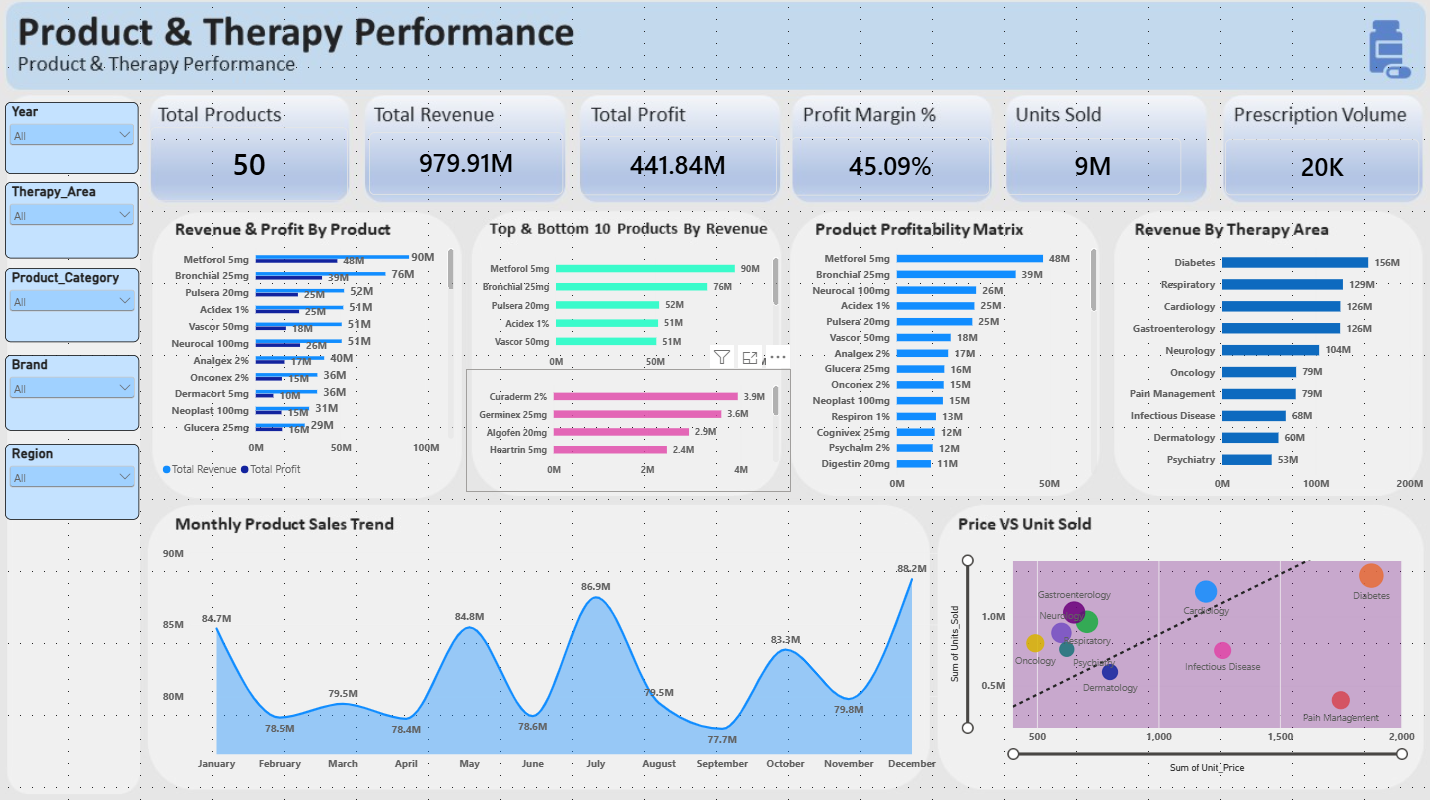

Layout of this report page (visuals, bound fields, positions):
{"tool":"powerbi","page":{"name":"Product & Therapy Performance","canvas":[1920,1080],"ordinal":1},"visuals":[{"type":"card","fields":{"Values":["Products.Total Products"]},"box":[205.3,176,264,98.7],"z":0},{"type":"card","fields":{"Values":["Sales.Total Revenue"]},"box":[496.8,182.9,259,83.8],"z":1000},{"type":"card","fields":{"Values":["Sales.Total Profit"]},"box":[777.1,187.4,263.6,79.2],"z":2000},{"type":"card","fields":{"Values":["Sales.Profit Margin %"]},"box":[1060.6,189,265.1,77.7],"z":3000},{"type":"card","fields":{"Values":["Sales.Total Unit Sold"]},"box":[1345.5,190.5,234.7,76.2],"z":4000},{"type":"card","fields":{"Values":["Prescriptions.Prescription Volume"]},"box":[1638.1,192,259,74.7],"z":5000},{"type":"clusteredBarChart","fields":{"Category":["Products.Product_Name"],"Y":["Sales.Total Revenue","Sales.Total Profit"]},"box":[205.3,316,421.3,346.7],"z":6000},{"type":"clusteredBarChart","fields":{"Category":["Products.Product_Name"],"Y":["Sales.Total Revenue"]},"box":[626.7,328,433.3,190.7],"z":7000},{"type":"clusteredBarChart","fields":{"Category":["Products.Product_Name"],"Y":["Sales.Total Revenue"]},"box":[626.7,498.7,433.3,164],"z":8000},{"type":"clusteredBarChart","fields":{"Category":["Products.Product_Name"],"Y":["Sales.Total Profit"]},"box":[1060,316,424,364],"z":9000},{"type":"clusteredBarChart","fields":{"Category":["Products.Therapy_Area"],"Y":["Sales.Total Revenue"]},"box":[1494,316,424,364],"z":10000},{"type":"areaChart","fields":{"Category":["Date.Date.Variation.Date Hierarchy.Month"],"Y":["Sales.Total Revenue"]},"box":[205.3,720,1066.7,333.3],"z":11000},{"type":"scatterChart","fields":{"X":["Sum(Products.Unit_Price)"],"Y":["Sum(Sales.Units_Sold)"],"Series":["Products.Therapy_Area"],"Size":["Sales.Total Revenue"]},"box":[1254.7,732,653.3,321.3],"z":12000},{"type":"slicer","fields":{"Values":["Date.Date.Variation.Date Hierarchy.Year"]},"box":[12.2,143.2,178.3,96],"z":13000},{"type":"slicer","fields":{"Values":["Products.Therapy_Area"]},"box":[12,264,178.3,102.1],"z":14000},{"type":"slicer","fields":{"Values":["Products.Product_Category"]},"box":[12,390.7,178.7,98.7],"z":15000},{"type":"slicer","fields":{"Values":["Products.Brand"]},"box":[12,518.7,178.7,101.3],"z":16000},{"type":"slicer","fields":{"Values":["Distributors.Region"]},"box":[12,656,178.7,101.3],"z":17000}]}

Visuals, with their boxes in screenshot pixels (x1, y1, x2, y2), scaled from the page's 1920x1080 canvas onto the 1430x800 screenshot:
card - Products.Total Products: rect(153, 130, 350, 203)
card - Sales.Total Revenue: rect(370, 135, 563, 198)
card - Sales.Total Profit: rect(579, 139, 775, 197)
card - Sales.Profit Margin %: rect(790, 140, 987, 198)
card - Sales.Total Unit Sold: rect(1002, 141, 1177, 198)
card - Prescriptions.Prescription Volume: rect(1220, 142, 1413, 198)
clusteredBarChart - Products.Product_Name x Sales.Total Revenue: rect(153, 234, 467, 491)
clusteredBarChart - Products.Product_Name x Sales.Total Revenue: rect(467, 243, 789, 384)
clusteredBarChart - Products.Product_Name x Sales.Total Revenue: rect(467, 369, 789, 491)
clusteredBarChart - Products.Product_Name x Sales.Total Profit: rect(789, 234, 1105, 504)
clusteredBarChart - Products.Therapy_Area x Sales.Total Revenue: rect(1113, 234, 1429, 504)
areaChart - Date.Date.Variation.Date Hierarchy.Month x Sales.Total Revenue: rect(153, 533, 947, 780)
scatterChart - Sum(Products.Unit_Price) x Sum(Sales.Units_Sold): rect(934, 542, 1421, 780)
slicer - Date.Date.Variation.Date Hierarchy.Year: rect(9, 106, 142, 177)
slicer - Products.Therapy_Area: rect(9, 196, 142, 271)
slicer - Products.Product_Category: rect(9, 289, 142, 363)
slicer - Products.Brand: rect(9, 384, 142, 459)
slicer - Distributors.Region: rect(9, 486, 142, 561)
